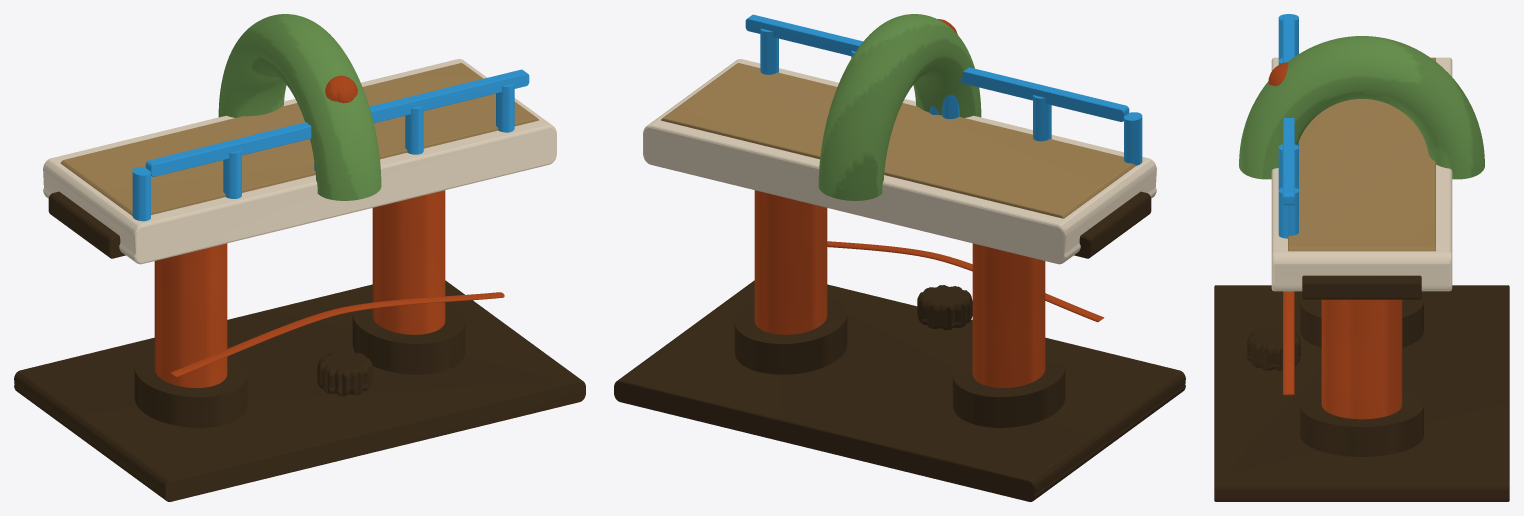
Rendered from 0815_中国建筑图鉴_栈道.glb.
3 views of the same model, side by side, from view 1: azimuth 30°, elevation 25°; view 2: azimuth 150°, elevation 25°; view 3: azimuth 270°, elevation 25° (orthographic). The views are drawn at different scales.
Parts seen in each view (by area): view 1: card_0815; view 2: card_0815; view 3: card_0815.
Boxes of the visible parts, bbox=[...] form: card_0815: bbox=[14, 14, 585, 501]; card_0815: bbox=[614, 14, 1185, 501]; card_0815: bbox=[1214, 14, 1509, 501].
Size of the model in its own units: 1.24 by 1 by 0.7329.
